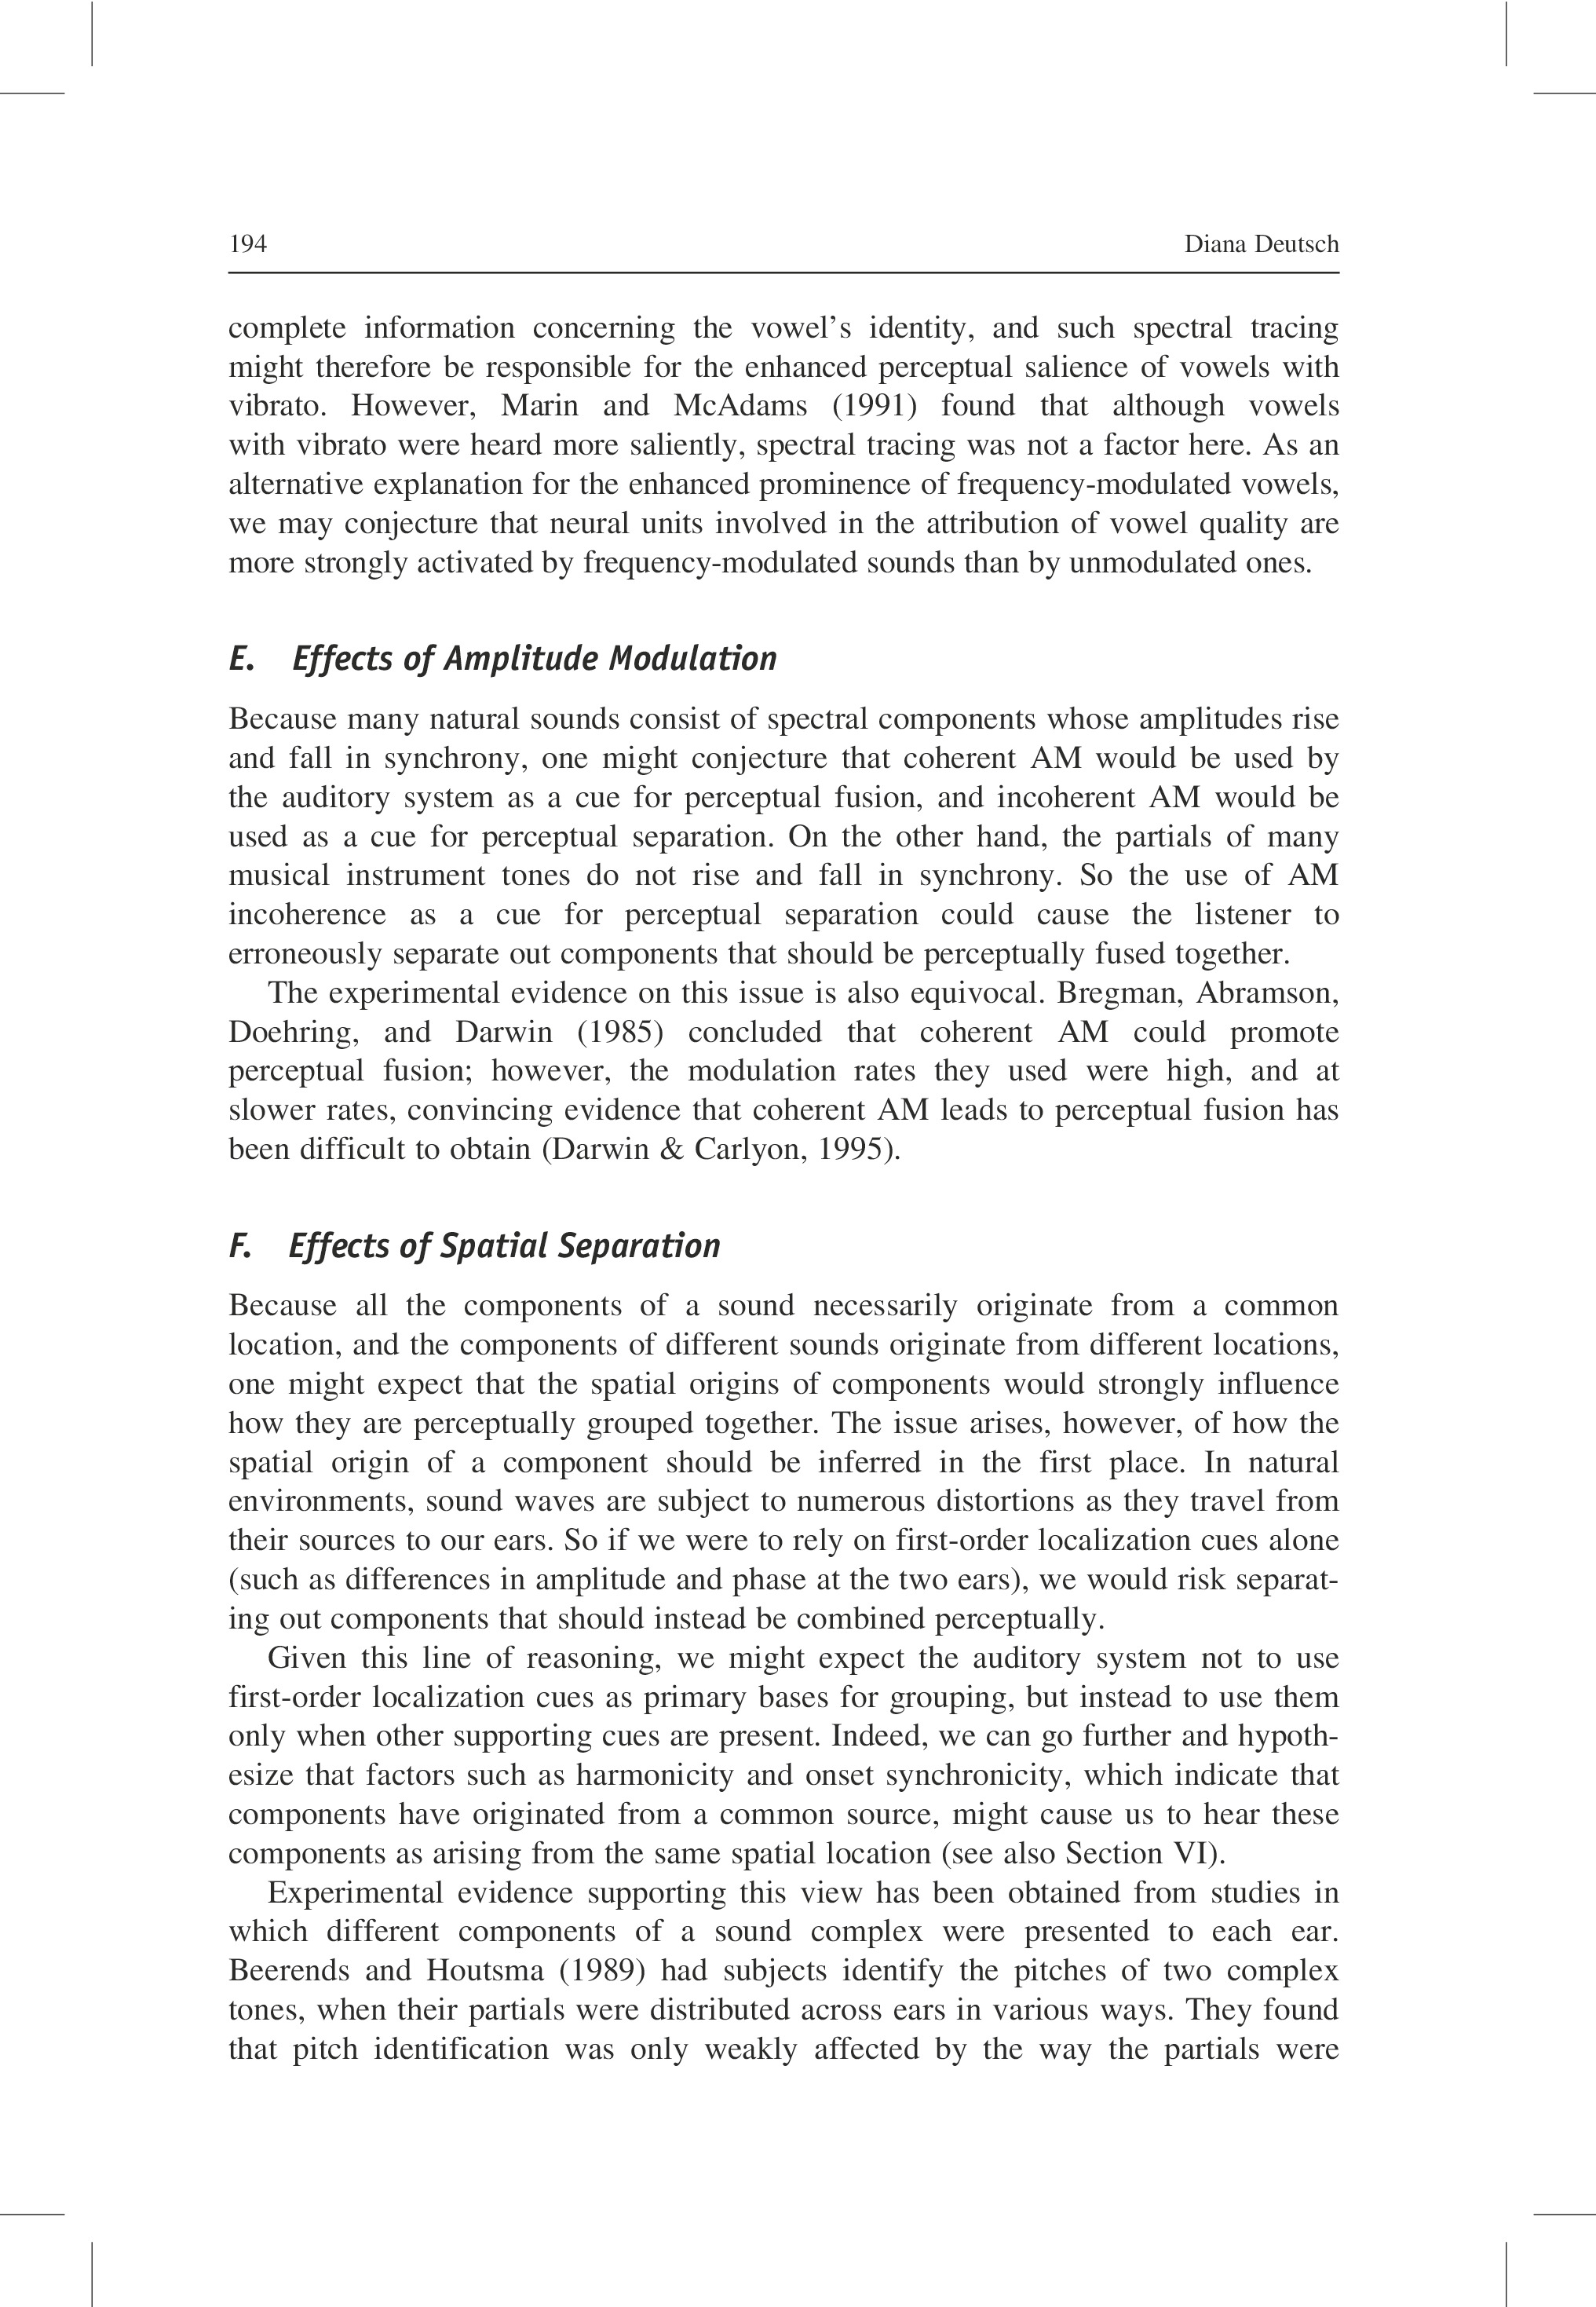section: (221, 622, 792, 685), (196, 1213, 748, 1273)
text: (219, 1287, 1337, 1646), (226, 703, 1338, 982), (228, 331, 1347, 577), (240, 1646, 1347, 1874), (214, 1878, 1344, 2074), (212, 992, 1337, 1185)
